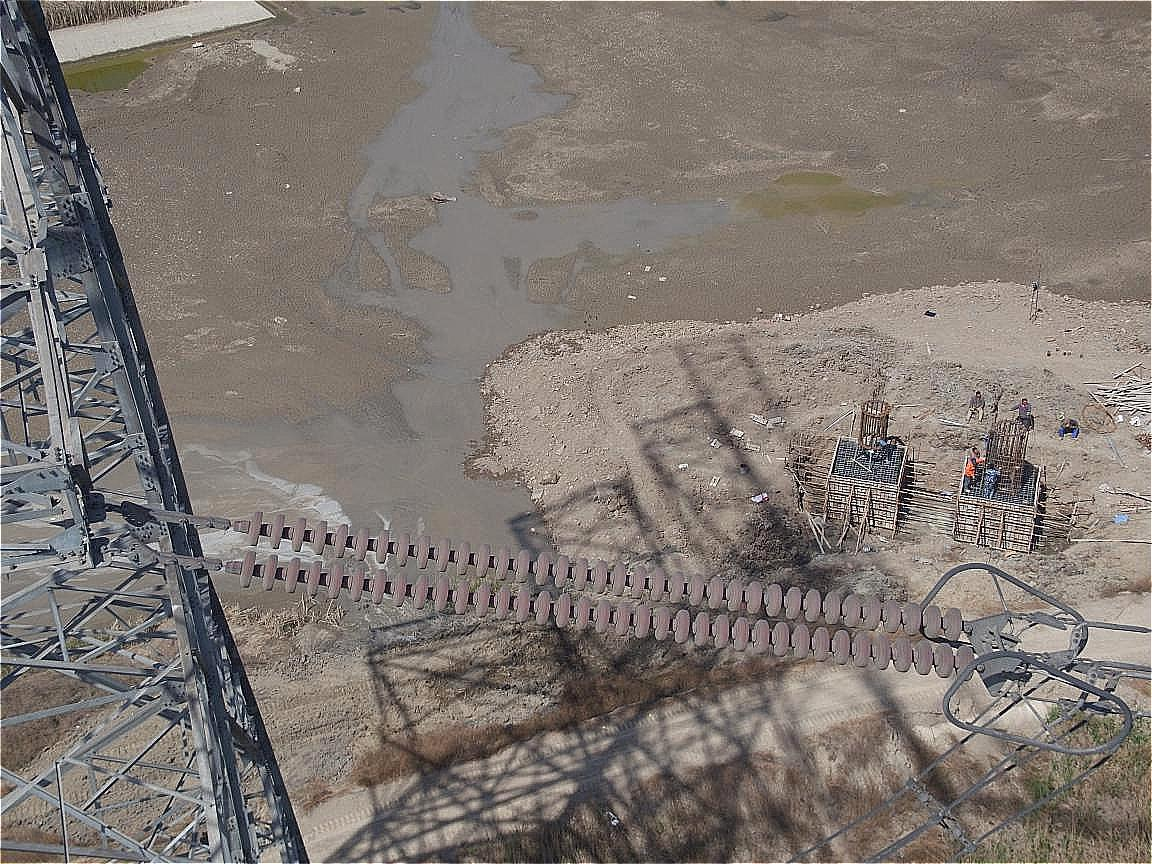insultor1: (205, 513, 995, 678)
